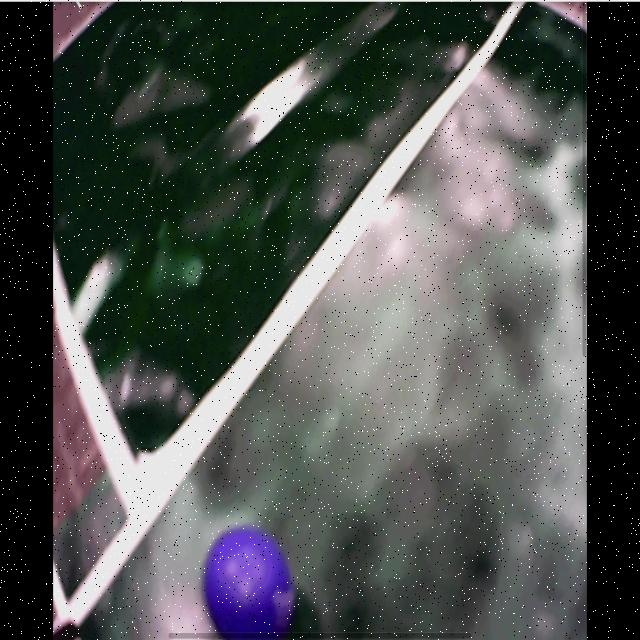ball: (204, 525, 291, 635)
